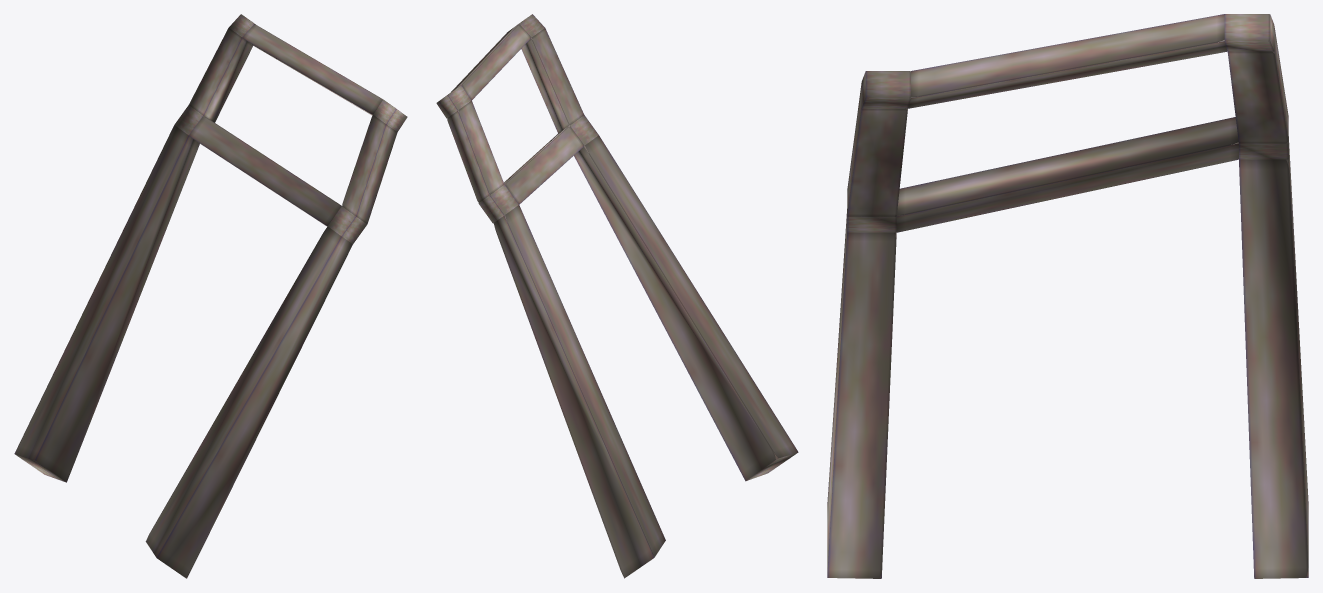
3 renders of one model, left to right at view 1: azimuth 30°, elevation 25°; view 2: azimuth 150°, elevation 25°; view 3: azimuth 270°, elevation 25°, orthographic. The views are drawn at different scales.
Visible parts, largest first — view 1: T1L2M009_8; view 2: T1L2M009_8; view 3: T1L2M009_8.
Boxes of the visible parts, bbox=[...] form: T1L2M009_8: bbox=[14, 14, 407, 578]; T1L2M009_8: bbox=[436, 14, 798, 578]; T1L2M009_8: bbox=[827, 14, 1308, 578].
Bounding box in the file's own units: 1.47 × 2.27 × 1.38.
